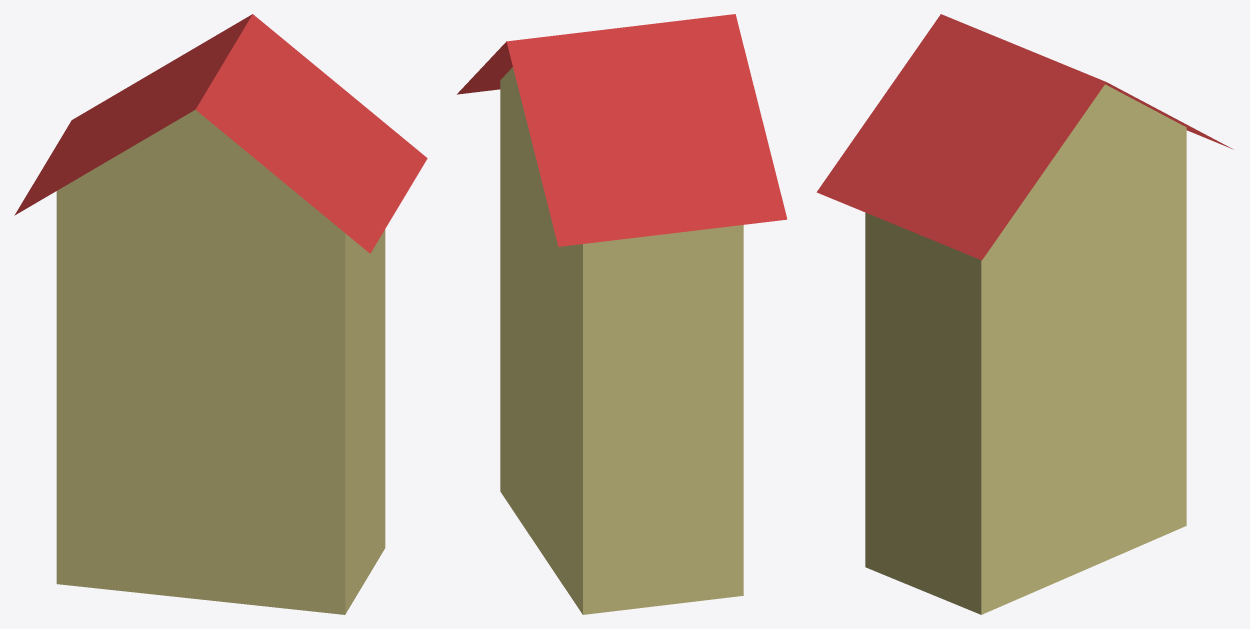
The picture shows the model from 3 angles, left to right: view 1: azimuth 30°, elevation 25°; view 2: azimuth 150°, elevation 25°; view 3: azimuth 270°, elevation 25°; orthographic projection. The views are drawn at different scales.
Size of the model in its own units: 6.12 by 6.08 by 7.99.
